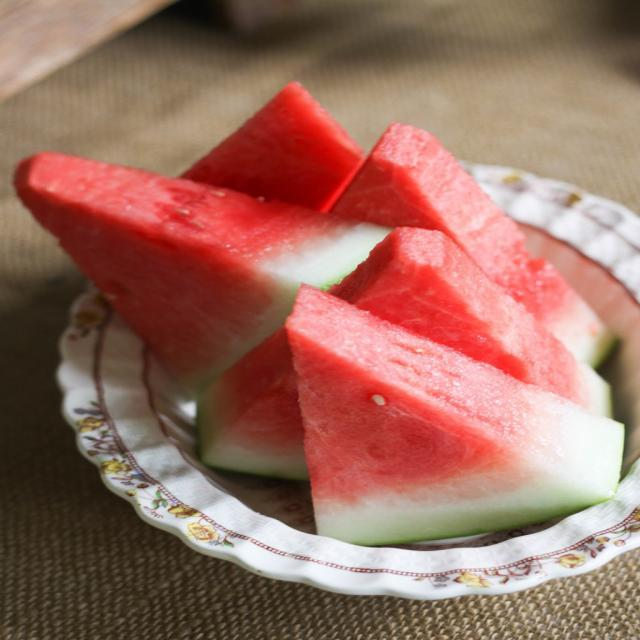Watermelon: (195, 226, 614, 482), (14, 152, 394, 404), (282, 281, 627, 547), (331, 121, 617, 369), (172, 80, 362, 214)
